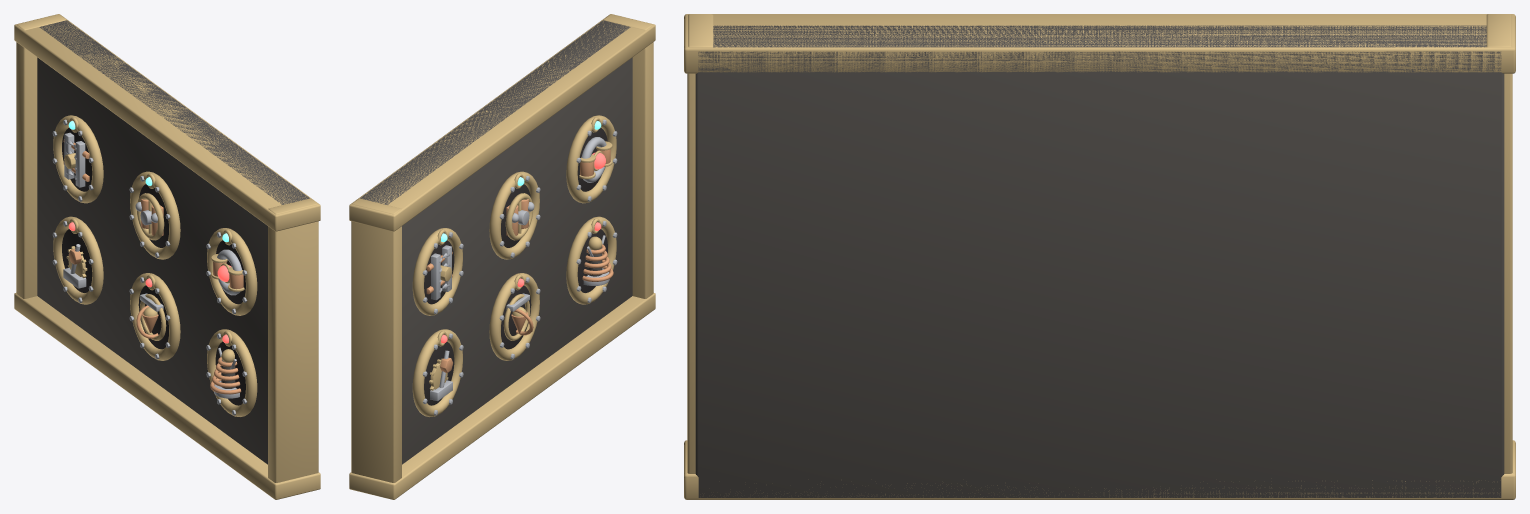
The model's file is contraband-relic-rack.glb.
The picture shows the model from 3 angles, left to right: view 1: azimuth 30°, elevation 25°; view 2: azimuth 150°, elevation 25°; view 3: azimuth 270°, elevation 25°; orthographic projection. The views are drawn at different scales.
Visible parts, largest first — view 1: SM_RackBackplate, SM_RackRailH.001, SM_RackRailV, SM_RackRailH, SM_RackRailV.001, SM_SocketBezel_0, SM_SocketBezel_3, SM_SocketBezel_4, SM_SocketBezel_1, SM_SocketBezel_2, SM_SocketBezel_5, SM_SocketWell_3 (+9 smaller); view 2: SM_RackBackplate, SM_RackRailV.001, SM_RackRailH.001, SM_RackRailH, SM_RackRailV, SM_SocketBezel_0, SM_SocketBezel_3, SM_SocketBezel_4, SM_SocketBezel_2, SM_SocketBezel_1, SM_SocketBezel_5, SM_SocketWell_3 (+9 smaller); view 3: SM_RackBackplate, SM_RackRailH.001, SM_RackRailV, SM_RackRailV.001, SM_RackRailH.
Boxes of the visible parts, bbox=[...] form: SM_RackBackplate: bbox=[37, 20, 309, 464]; SM_RackRailH.001: bbox=[14, 14, 320, 231]; SM_RackRailV: bbox=[268, 198, 318, 482]; SM_RackRailH: bbox=[14, 293, 320, 499]; SM_RackRailV.001: bbox=[16, 14, 66, 298]; SM_SocketBezel_0: bbox=[53, 115, 103, 203]; SM_SocketBezel_3: bbox=[53, 216, 103, 304]; SM_SocketBezel_4: bbox=[130, 273, 180, 360]; SM_SocketBezel_1: bbox=[130, 171, 180, 259]; SM_SocketBezel_2: bbox=[207, 228, 257, 315]; SM_SocketBezel_5: bbox=[207, 329, 257, 416]; SM_SocketWell_3: bbox=[62, 229, 92, 292]; SM_RackBackplate: bbox=[360, 20, 632, 464]; SM_RackRailV.001: bbox=[351, 198, 401, 482]; SM_RackRailH.001: bbox=[349, 14, 655, 231]; SM_RackRailH: bbox=[349, 293, 655, 499]; SM_RackRailV: bbox=[603, 14, 653, 298]; SM_SocketBezel_0: bbox=[412, 228, 462, 315]; SM_SocketBezel_3: bbox=[412, 329, 462, 416]; SM_SocketBezel_4: bbox=[489, 273, 539, 360]; SM_SocketBezel_2: bbox=[566, 115, 616, 203]; SM_SocketBezel_1: bbox=[489, 171, 539, 259]; SM_SocketBezel_5: bbox=[566, 216, 616, 304]; SM_SocketWell_3: bbox=[424, 341, 454, 405]; SM_RackBackplate: bbox=[695, 25, 1504, 497]; SM_RackRailH.001: bbox=[684, 14, 1515, 73]; SM_RackRailV: bbox=[687, 14, 713, 473]; SM_RackRailV.001: bbox=[1486, 14, 1512, 473]; SM_RackRailH: bbox=[684, 440, 1515, 499].
Size of the model in its own units: 0.454 by 2.26 by 3.75.
